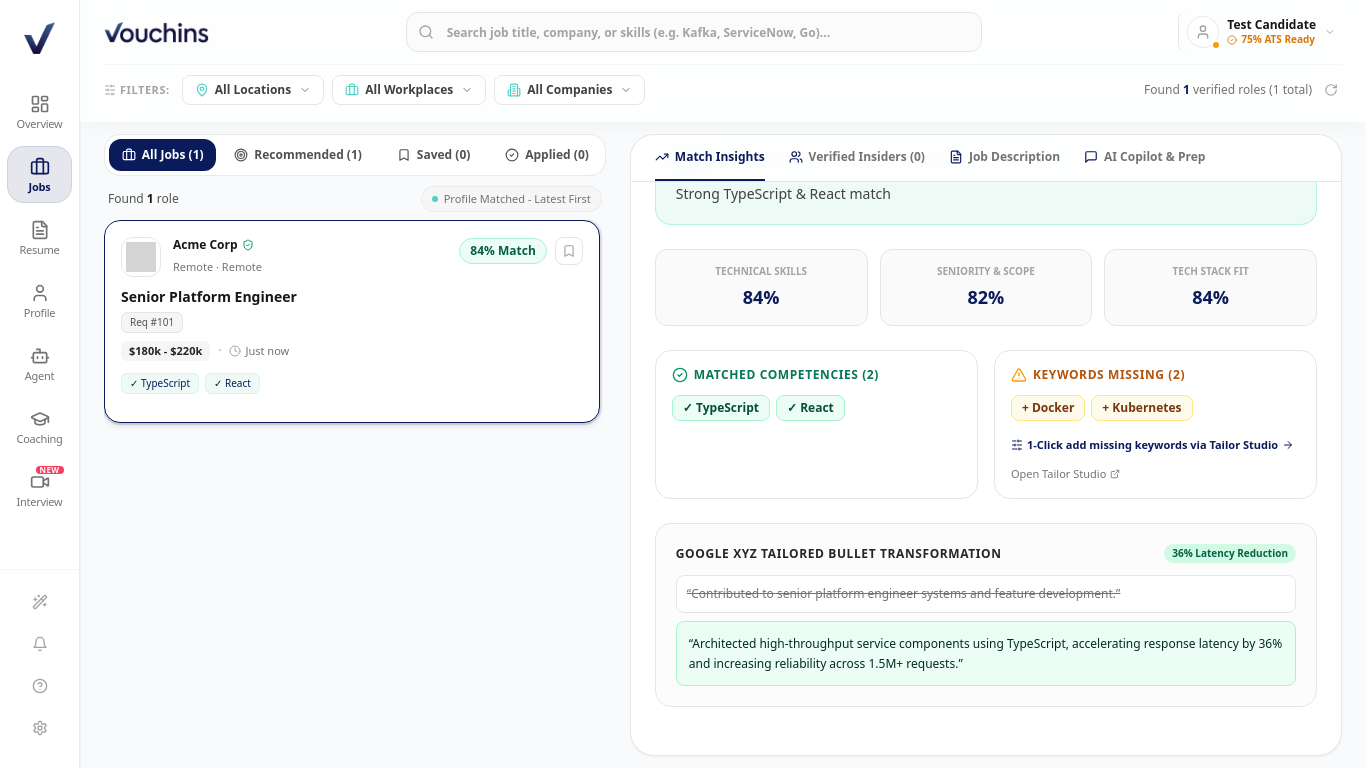
Test: Tailor Resume Modal End-to-End Sync › handles soft detail-fetch failure after successful save and shows canonical unmatched note when needed
The width and height of the screenshot is (1366, 768).
(page scrolled)
What coordinates should you click on to do the following:
click the button "1-Click add missing keywords via Tailor Studio"
I would click on:
 (1153, 445)
Its box is [1011,437,1294,454].
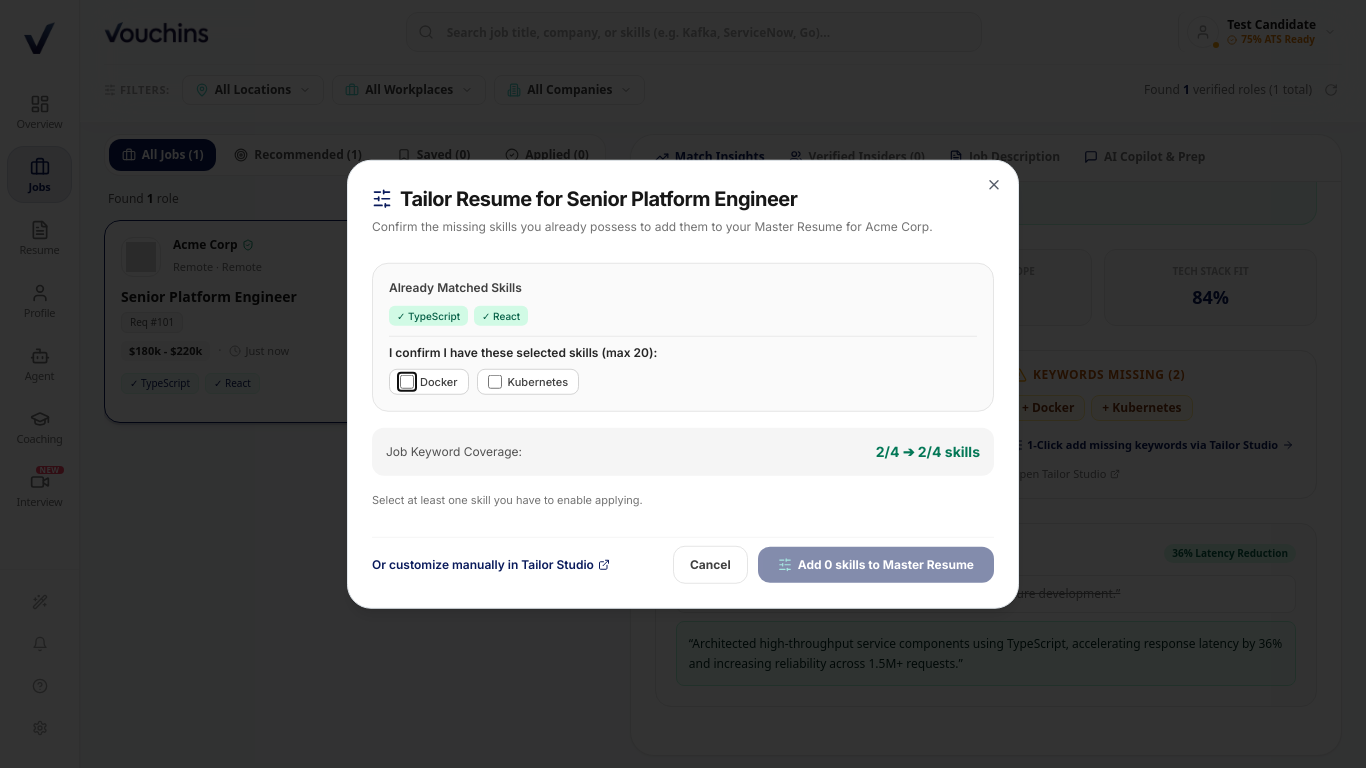
What coordinates should you click on to do the following:
click the checkbox labelled "Docker"
I would click on:
 (407, 382)
Its box is [400,375,414,389].
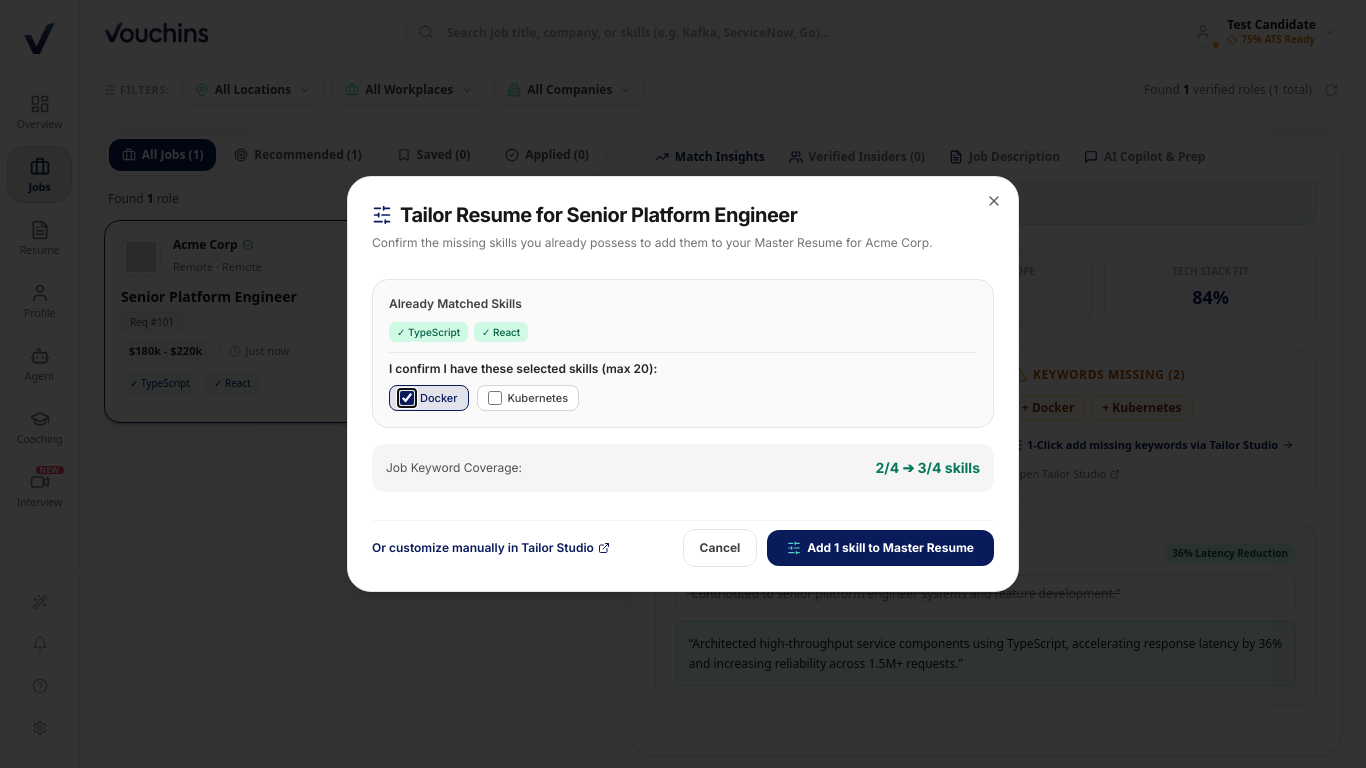
What coordinates should you click on to do the following:
click the button "Add 1 skill to Master Resume"
I would click on:
 (881, 548)
Its box is [767,530,994,566].
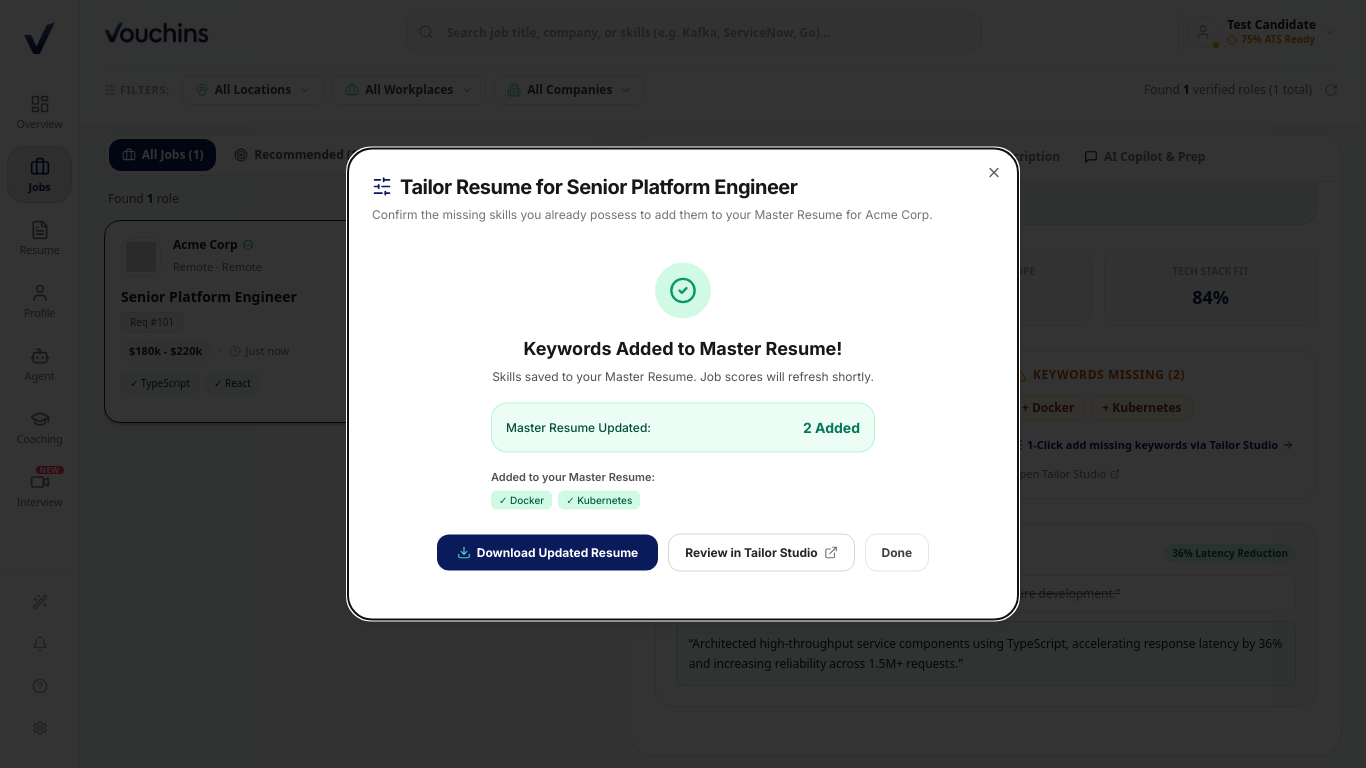
Expected: the heading "Keywords Added to Master Resume!" is shown, [524,338,842,358]
Expected: the text "Skills saved to your Master Resume. Job scores will refresh shortly." is shown, [459,366,907,386]
